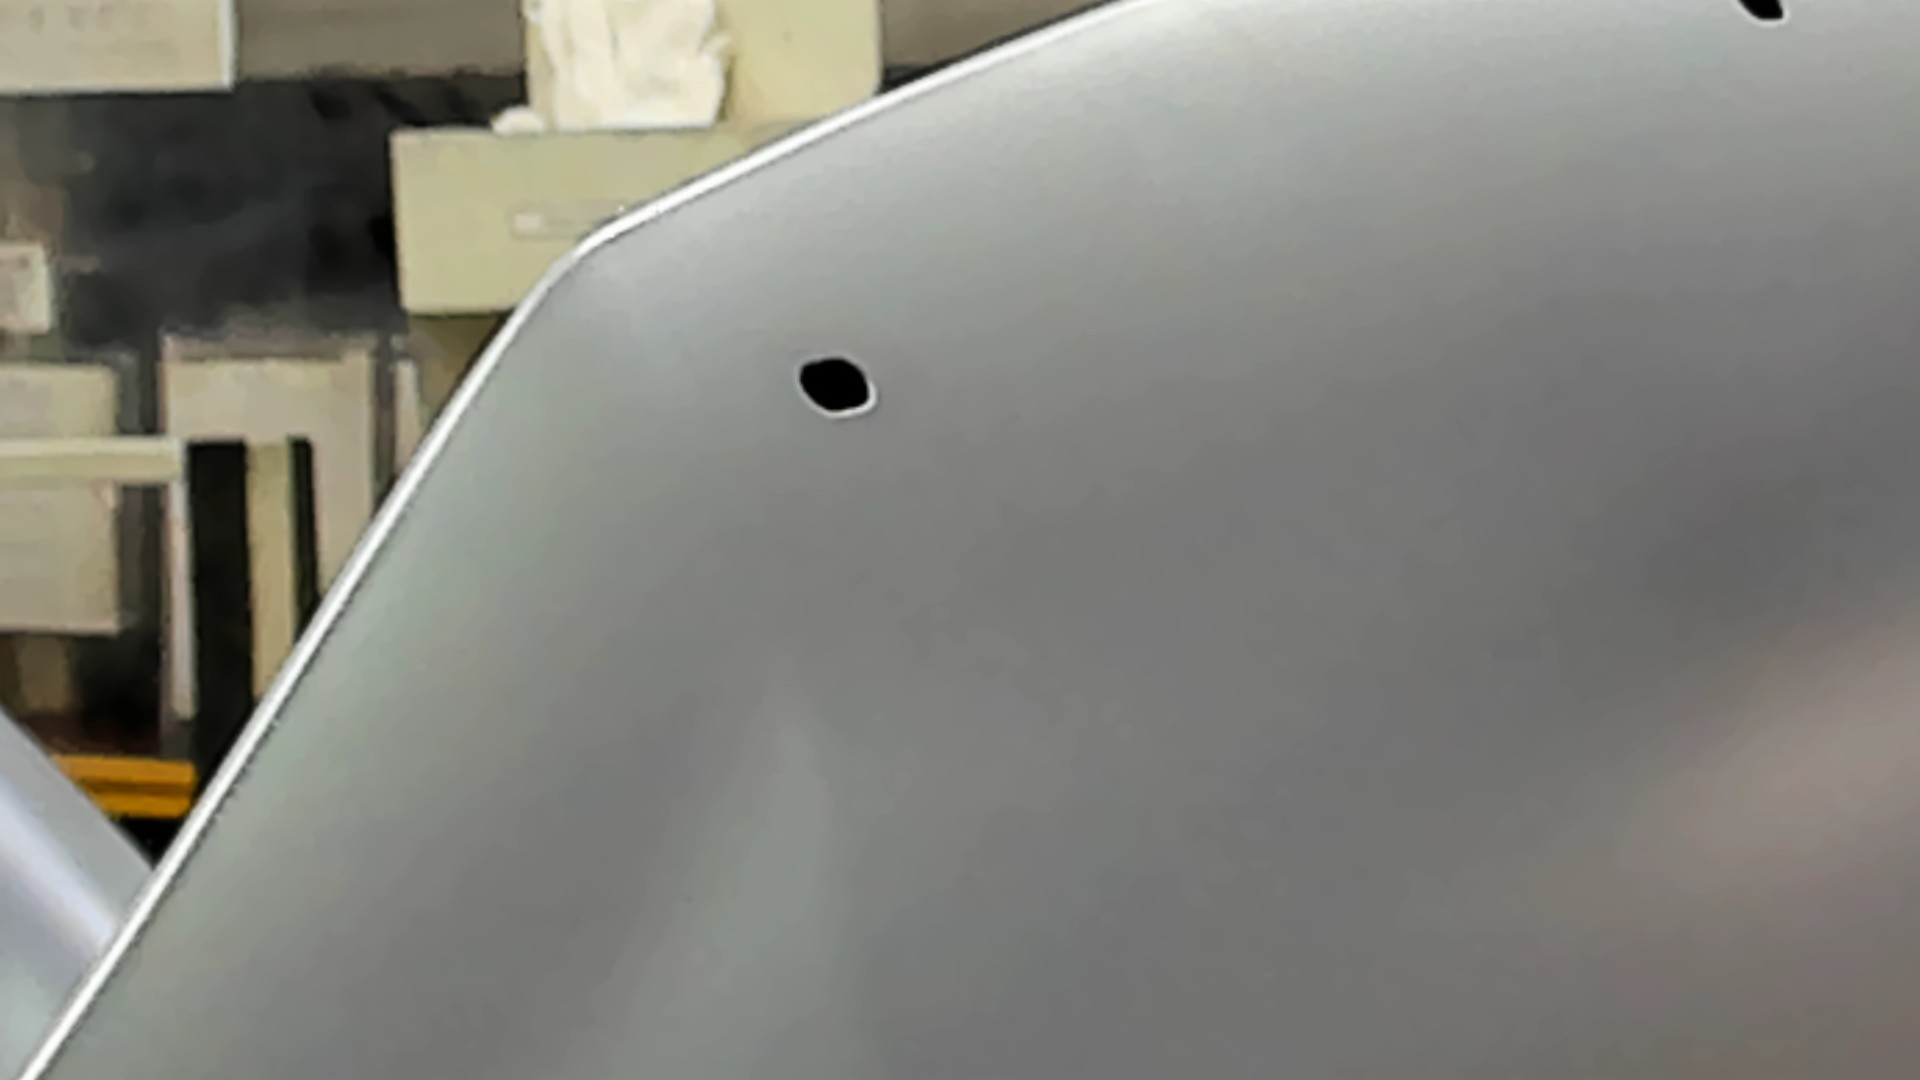amorfo: (795, 353, 880, 419), (1733, 1, 1789, 26)
